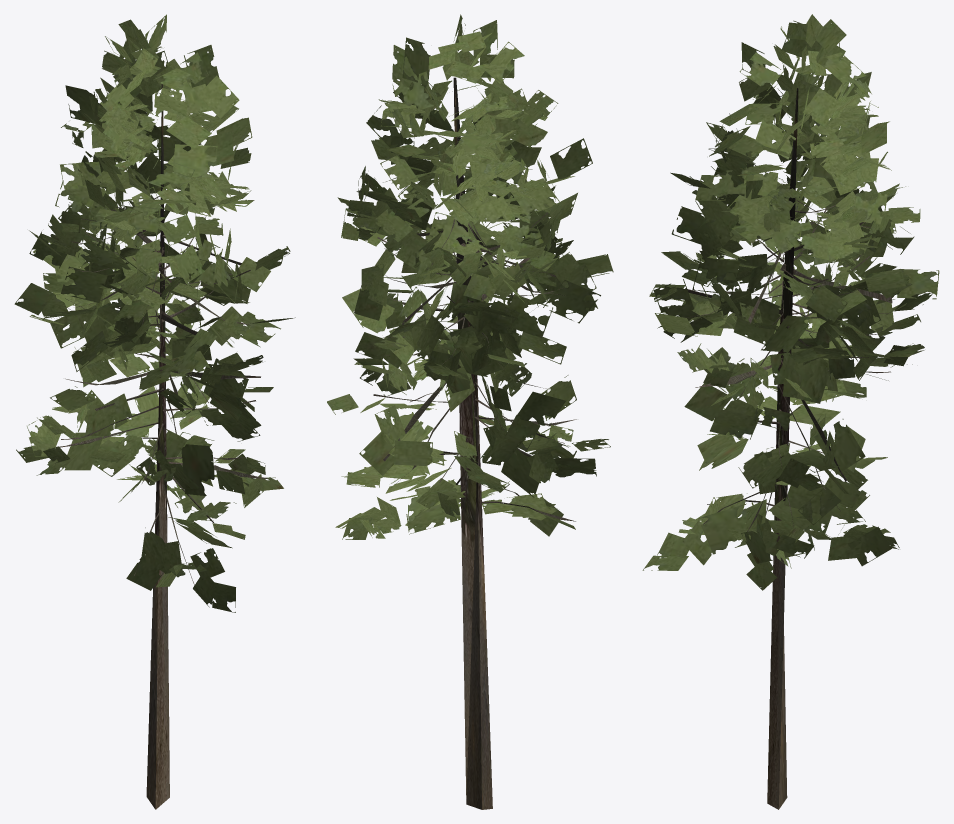
The model's file is tree-fir.glb.
3 renders of one model, left to right at view 1: azimuth 30°, elevation 25°; view 2: azimuth 150°, elevation 25°; view 3: azimuth 270°, elevation 25°, orthographic. The views are drawn at different scales.
Visible parts, largest first — view 1: tree-fir_LOD1; view 2: tree-fir_LOD1; view 3: tree-fir_LOD1.
Boxes of the visible parts, x1=… form: tree-fir_LOD1: x1=14, y1=14, x2=295, y2=809; tree-fir_LOD1: x1=327, y1=14, x2=613, y2=809; tree-fir_LOD1: x1=642, y1=14, x2=939, y2=809.
Bounding box in the file's own units: 6.59 × 18.8 × 6.45.
Materials: 3 (3 with a texture image).
